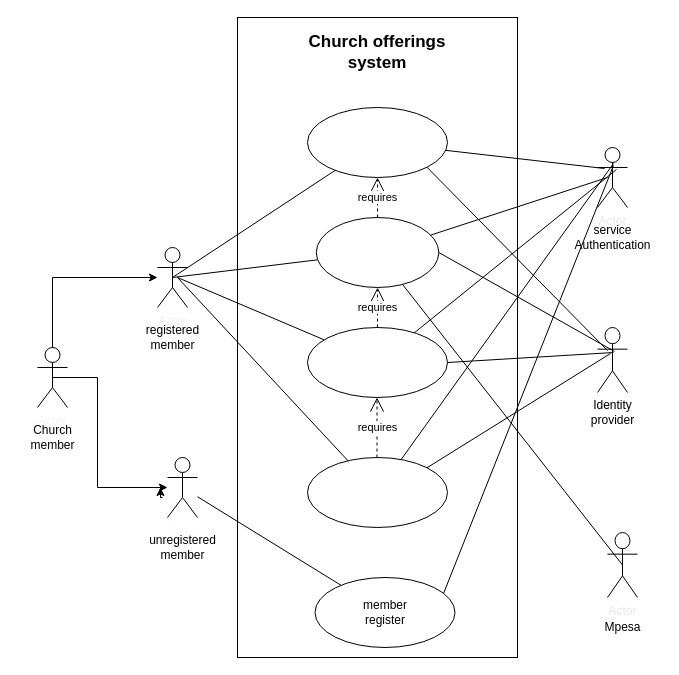
Some shapes in this 679 by 675 pixel diagram are drawn without their labels. The shapes that lost their labels are listed below. From the top down, each one's centre as x and y in pixels, then its label:
At point 377,142: "login".
At point 377,252: "Make contribution".
At point 377,362: "View contribution panel".
At point 377,492: "check out".
